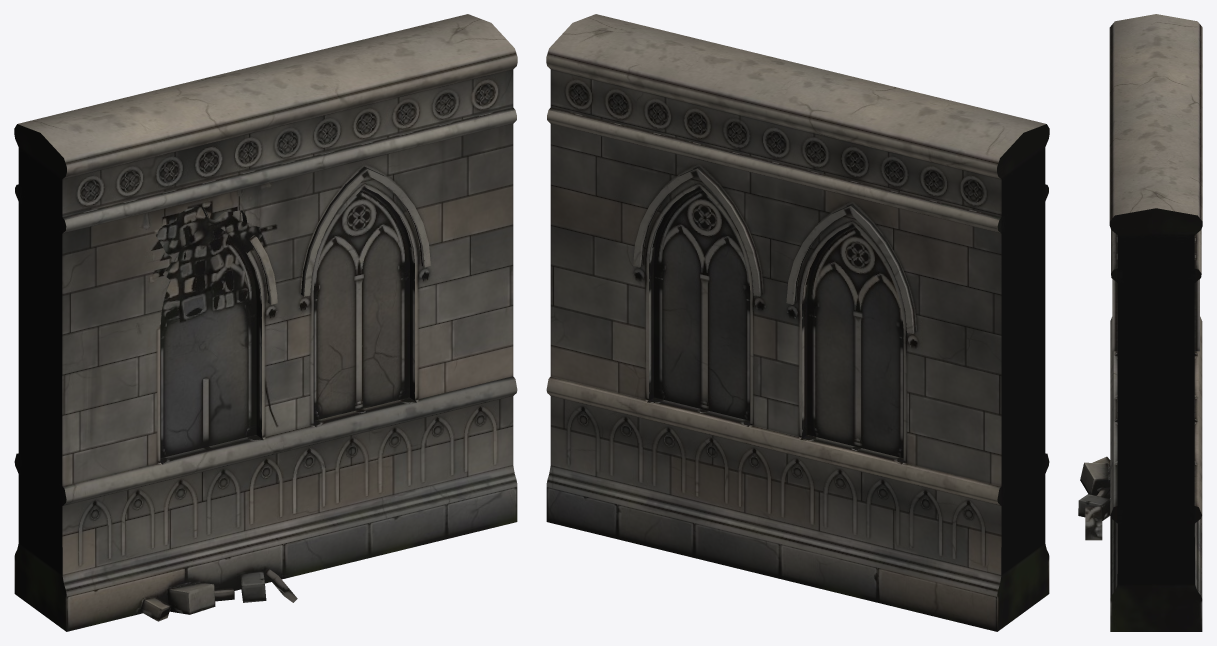
The model's file is cathedral_wall_b.glb.
3 views of the same model, side by side, from view 1: azimuth 30°, elevation 25°; view 2: azimuth 150°, elevation 25°; view 3: azimuth 270°, elevation 25° (orthographic). The views are drawn at different scales.
Visible parts, largest first — view 1: cathedral_wall_b; view 2: cathedral_wall_b; view 3: cathedral_wall_b.
Boxes of the visible parts, x1,y1,x2,y2 form: cathedral_wall_b: [14, 14, 517, 631]; cathedral_wall_b: [546, 14, 1049, 631]; cathedral_wall_b: [1078, 14, 1202, 631].
Bounding box in the file's own units: 4 × 4.18 × 1.08.
Materials: 1 (1 with a texture image).
